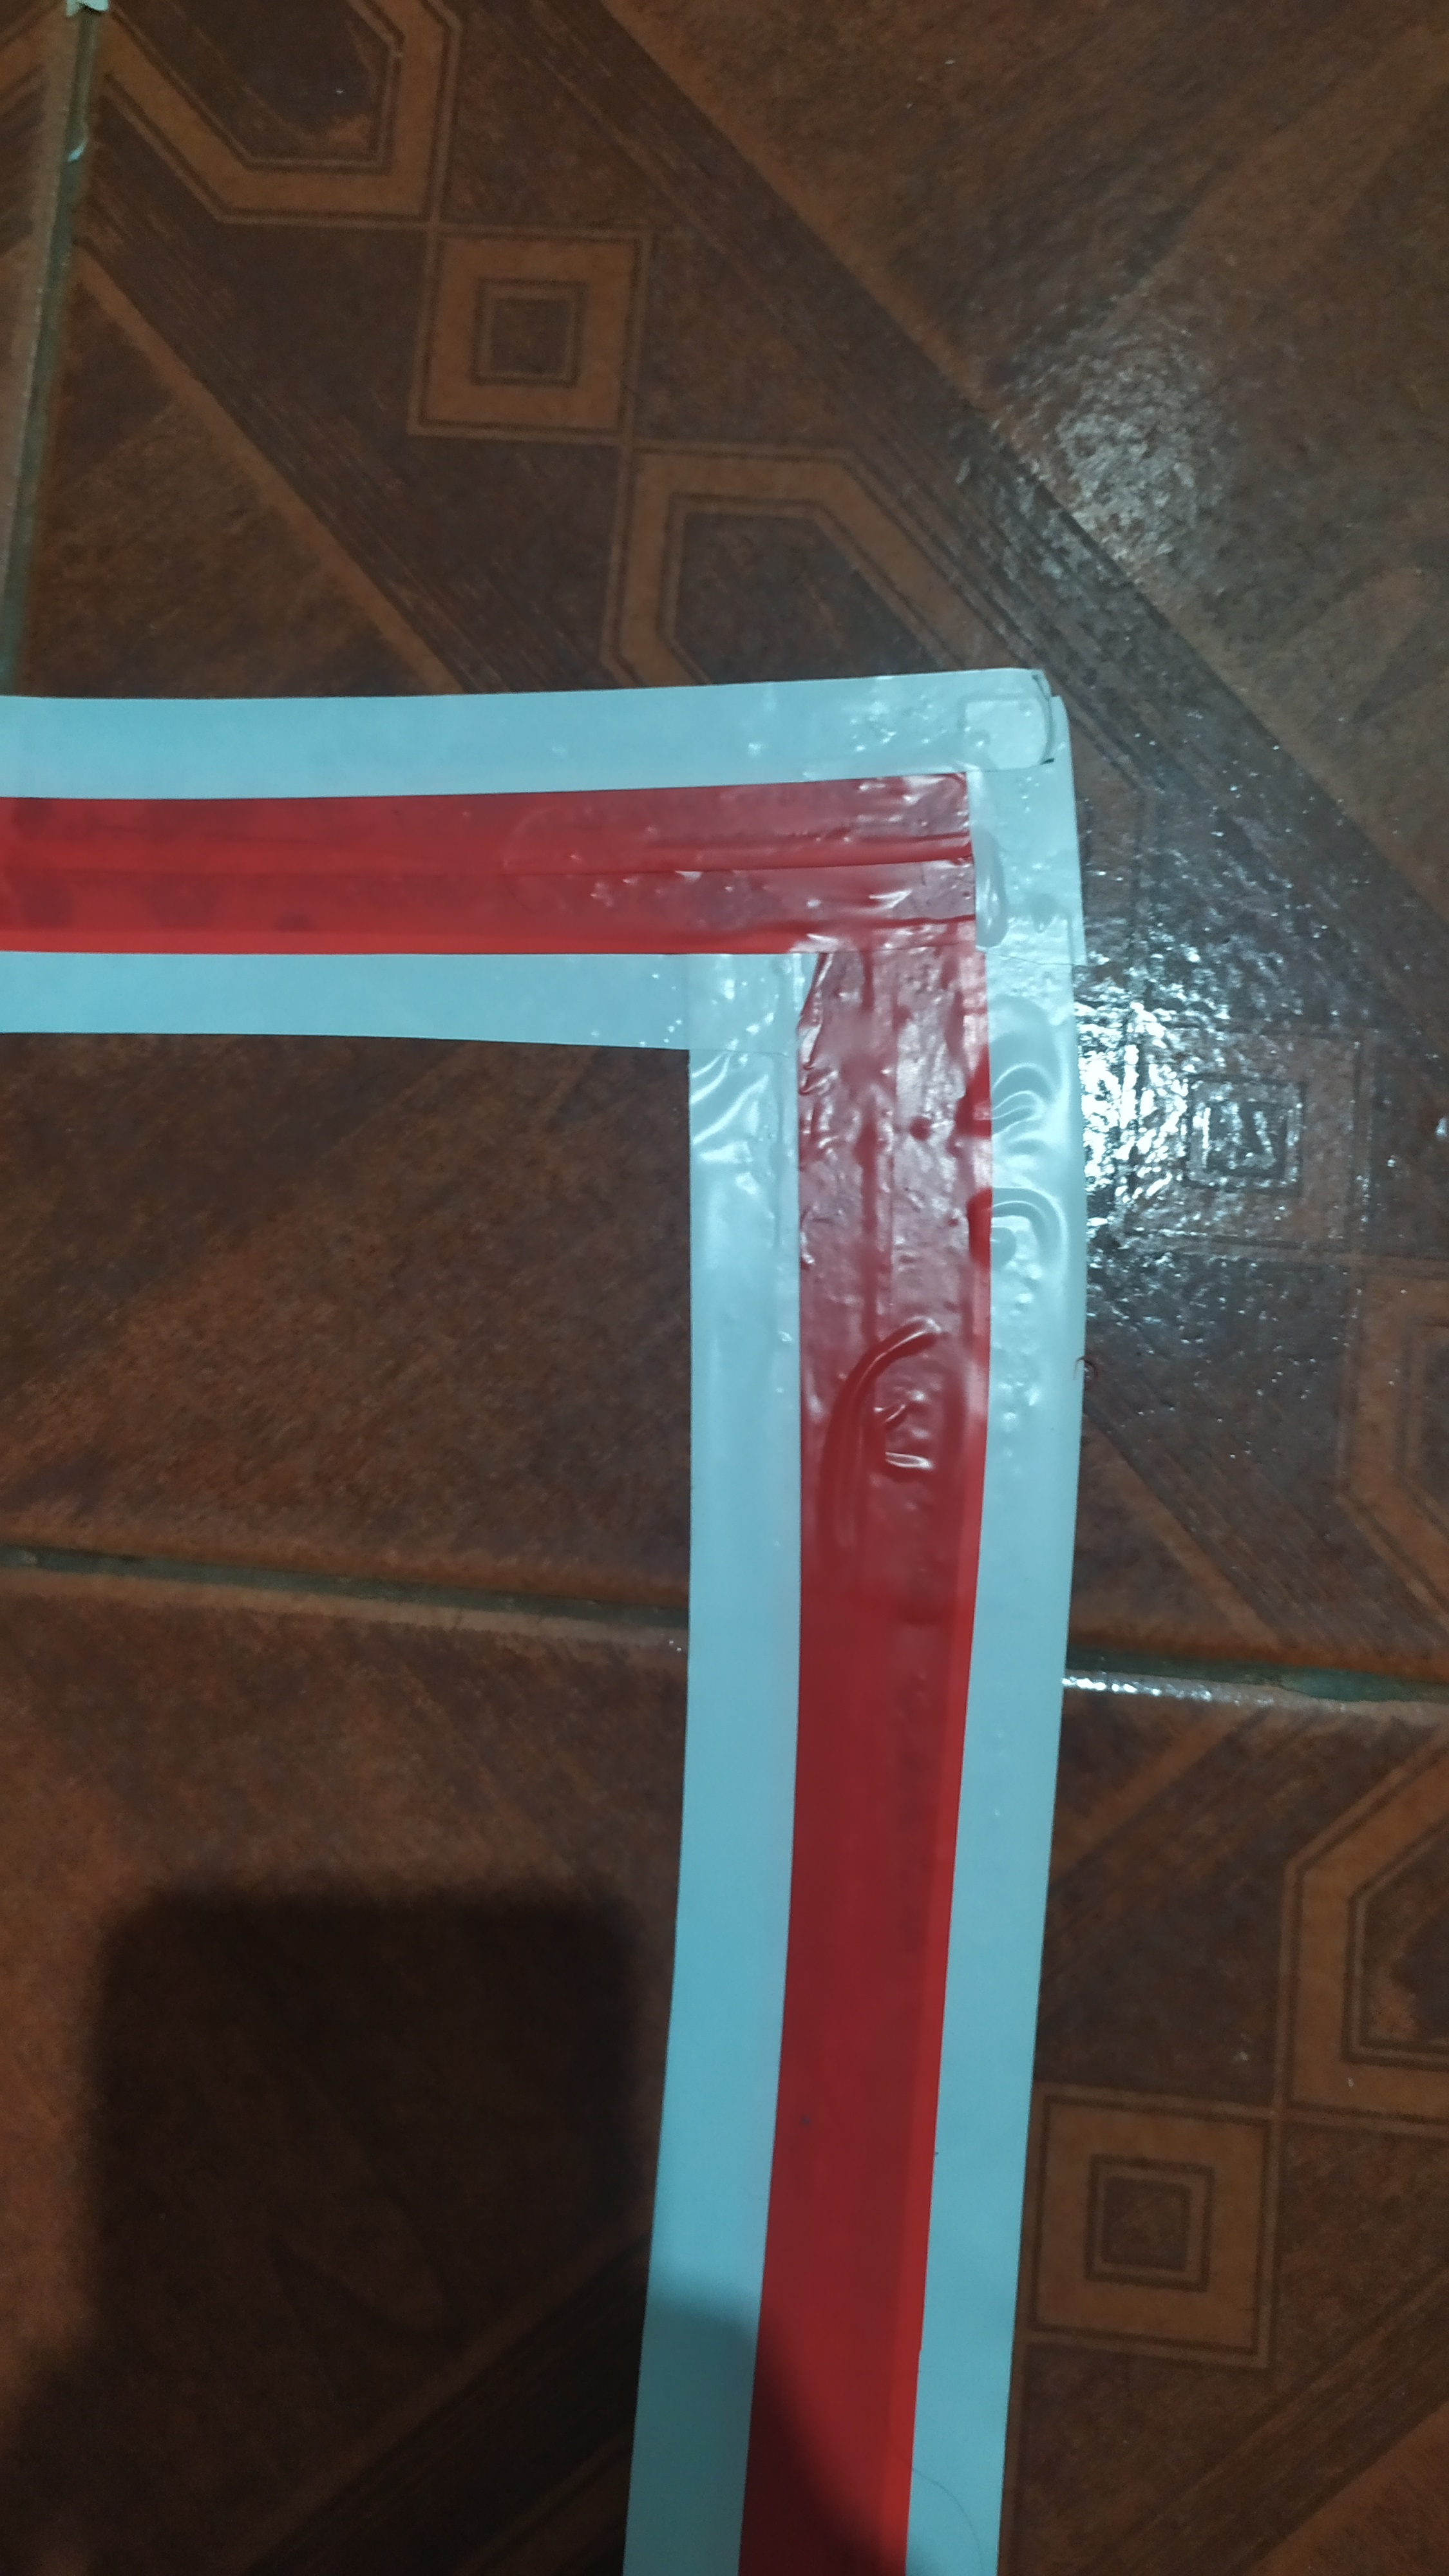faixa_esquerda: (14, 623, 1148, 2576)
